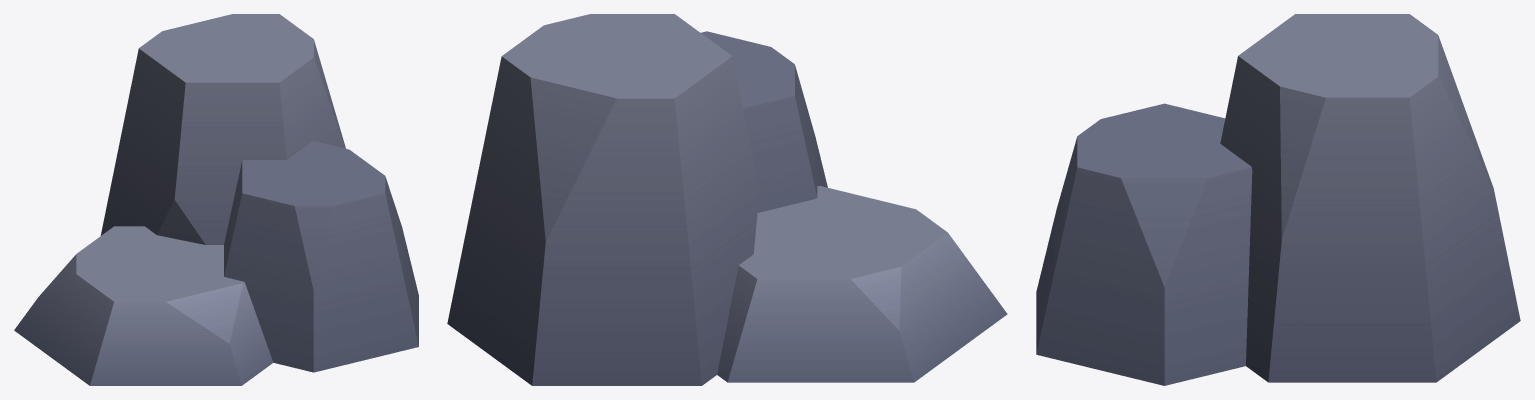
Rendered from pedra 4 cinza.glb.
3 renders of one model, left to right at view 1: azimuth 30°, elevation 25°; view 2: azimuth 150°, elevation 25°; view 3: azimuth 270°, elevation 25°, orthographic. The views are drawn at different scales.
Parts seen in each view (by area): view 1: rocks; view 2: rocks; view 3: rocks.
Boxes of the visible parts, x1,y1,x2,y2 form: rocks: [14, 14, 418, 385]; rocks: [447, 14, 1007, 385]; rocks: [1036, 14, 1520, 385].
Bounding box in the file's own units: 0.6531 × 0.4 × 0.6623.
1 material, 1 textured.
